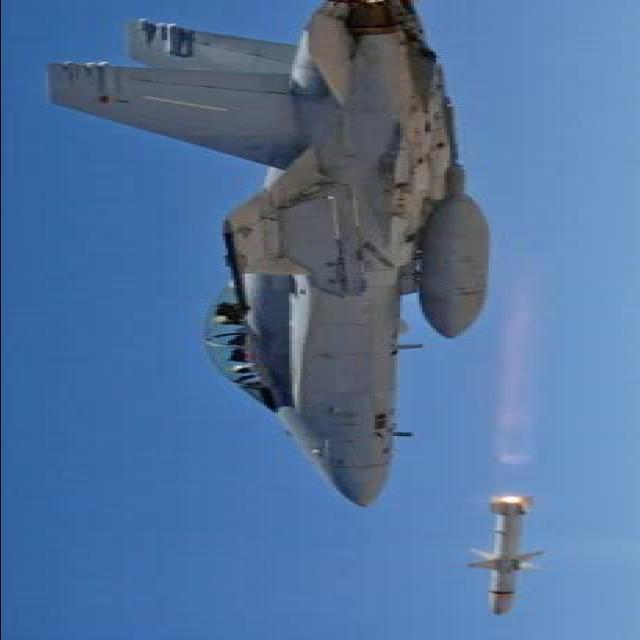missile: (423, 163, 498, 341), (467, 489, 552, 630)
